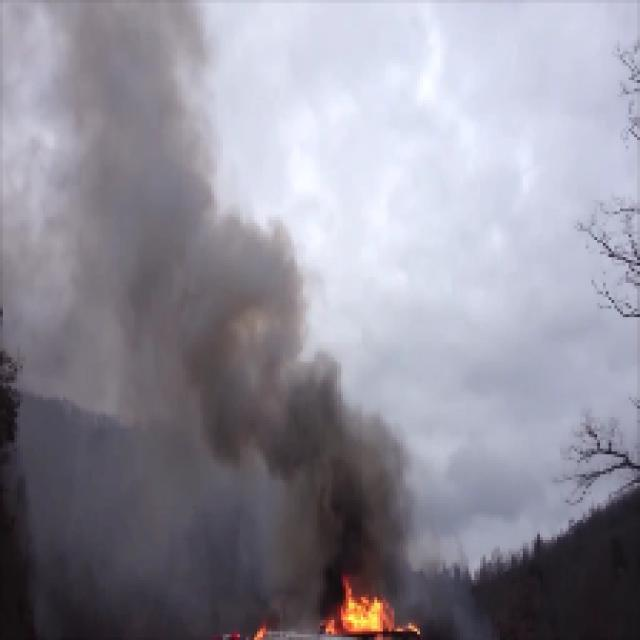Smoke: (38, 17, 210, 450)
